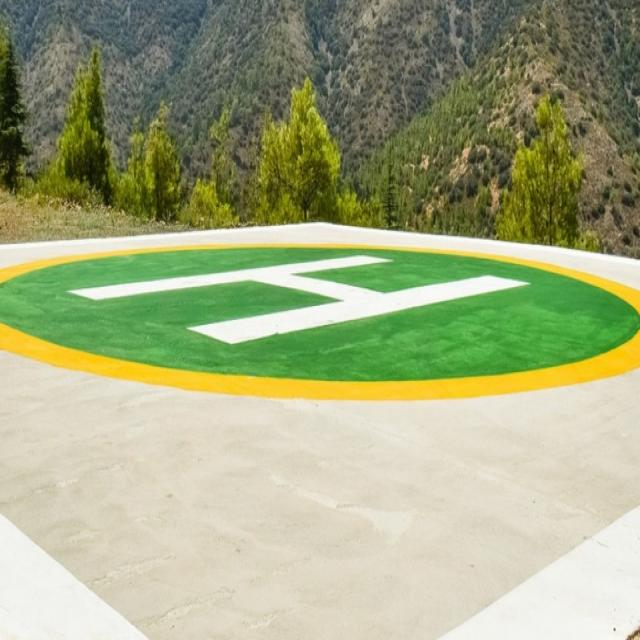helipad: (0, 231, 639, 407)
